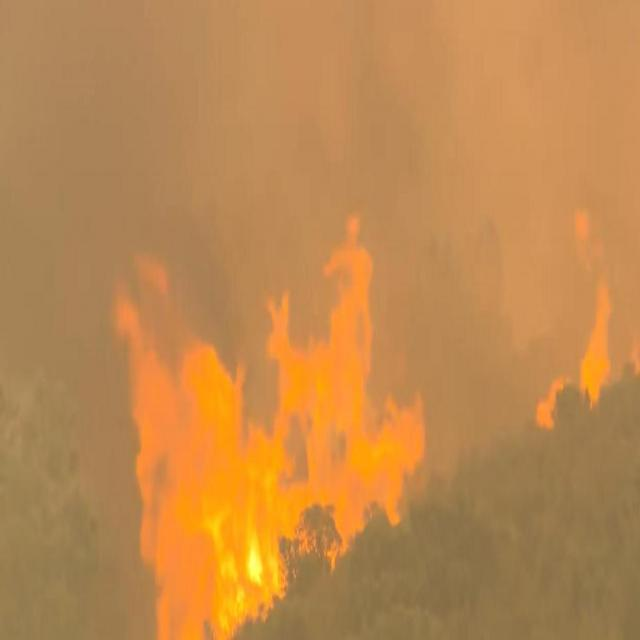fire: (157, 217, 436, 632)
